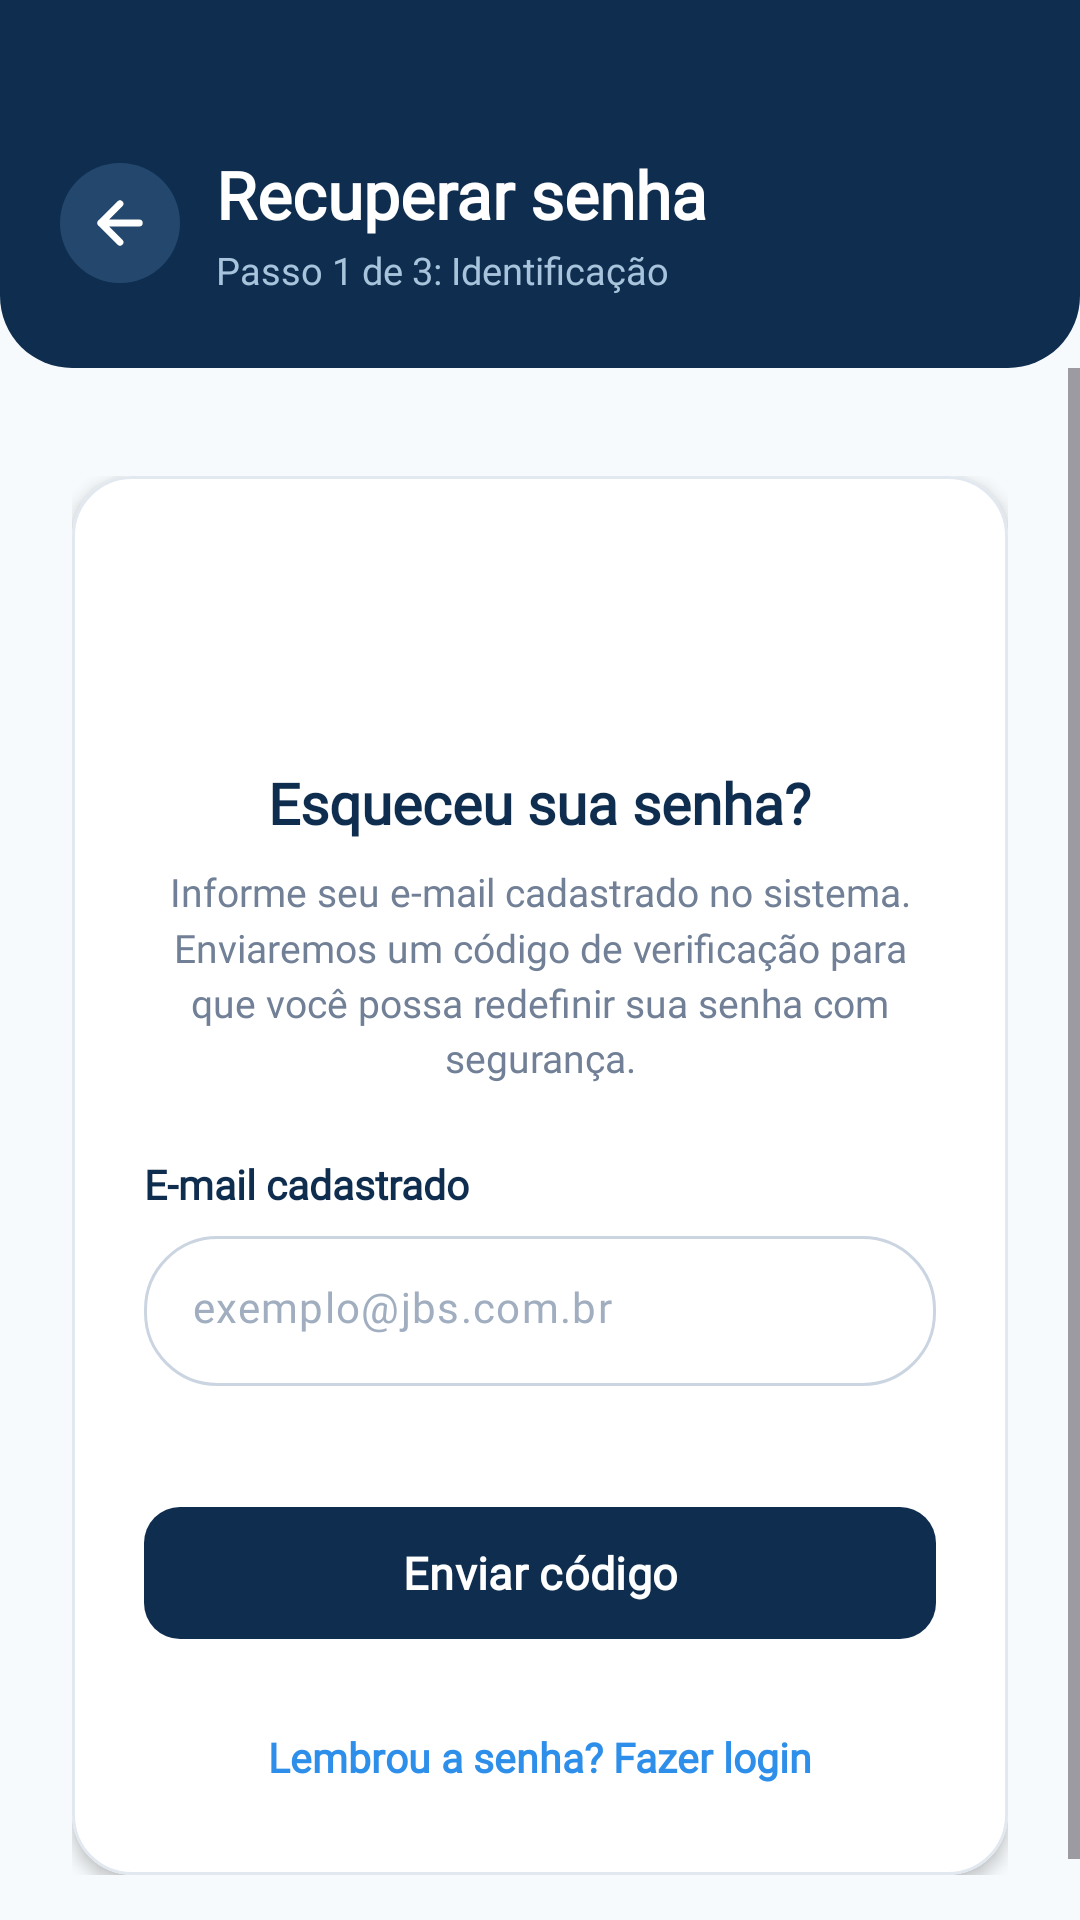

Where to tap for icons on this 1080px x 1920px app screen, as [x,y]:
Voltar: [120,223]
